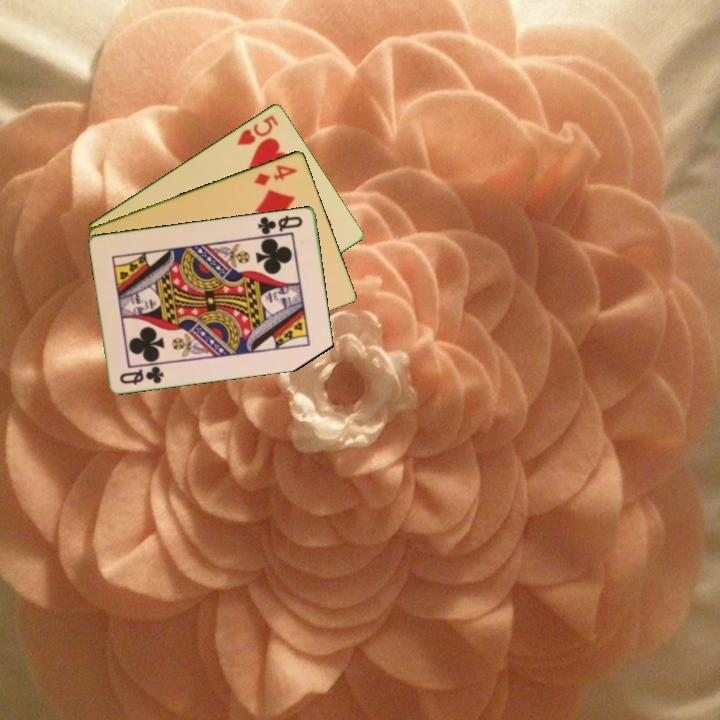4d: (250, 161, 301, 188)
5h: (233, 111, 282, 148)
Qc: (254, 211, 306, 237), (116, 362, 167, 387)
